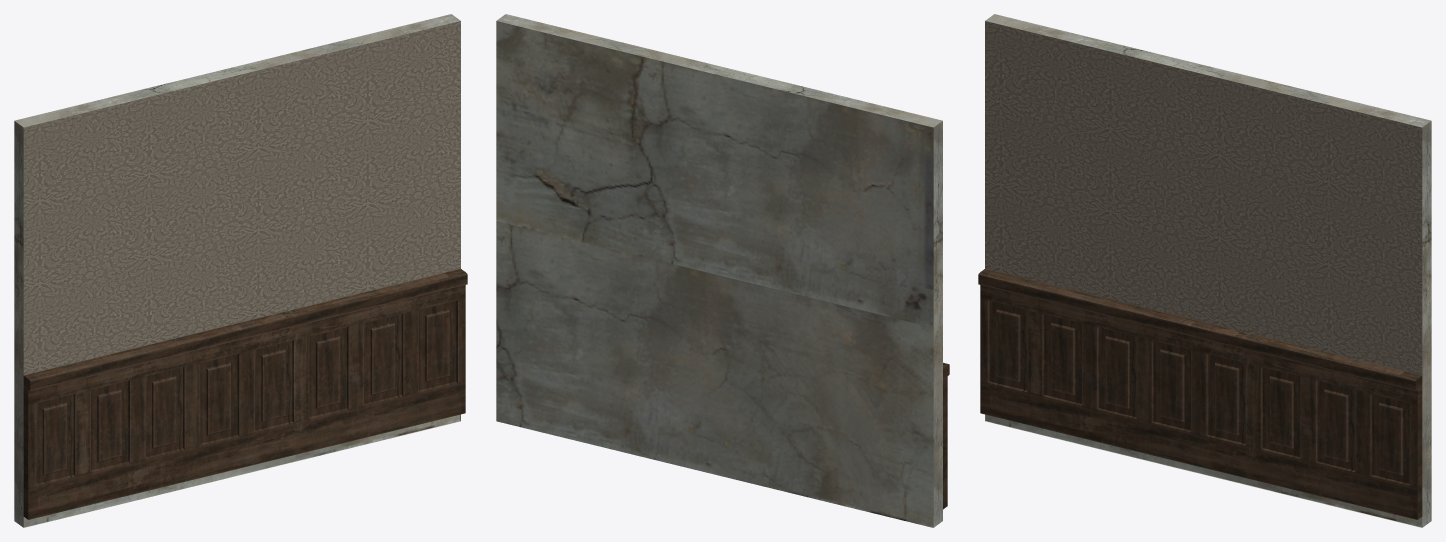
File: R3_Wall400.fbx
3 views of the same model, side by side, from view 1: azimuth 30°, elevation 25°; view 2: azimuth 150°, elevation 25°; view 3: azimuth 330°, elevation 25° (orthographic).
Visible parts, largest first — view 1: SM_Wall400A_LOD0; view 2: SM_Wall400A_LOD0; view 3: SM_Wall400A_LOD0.
Boxes of the visible parts, x1,y1,x2,y2 form: SM_Wall400A_LOD0: [14, 14, 467, 527]; SM_Wall400A_LOD0: [496, 14, 949, 527]; SM_Wall400A_LOD0: [978, 14, 1431, 527].
Bounding box in the file's own units: 400 × 350 × 25.65.
